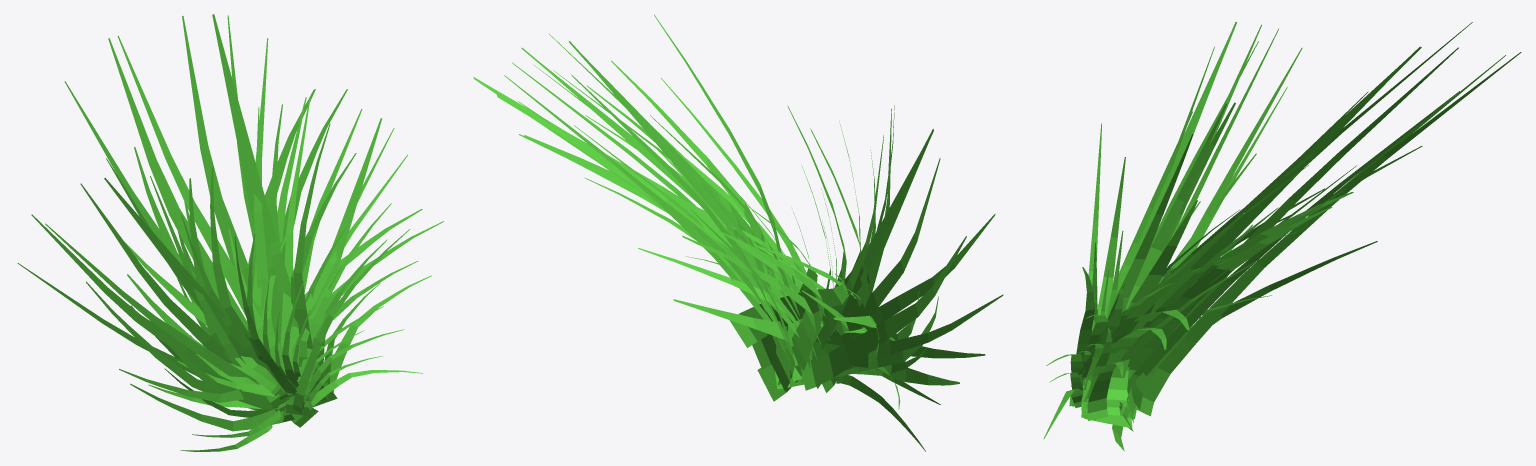
File: grass1.fbx
3 views of the same model, side by side, from view 1: azimuth 30°, elevation 25°; view 2: azimuth 150°, elevation 25°; view 3: azimuth 270°, elevation 25° (orthographic). The views are drawn at different scales.
Parts seen in each view (by area): view 1: Plane.001, Plane.000, Plane.014; view 2: Plane.001, Plane.000, Plane.014; view 3: Plane.001, Plane.000, Plane.014.
Part boxes in pixels (x1,y1,x2,y2): Plane.001: [64, 14, 431, 427]; Plane.000: [17, 158, 336, 451]; Plane.014: [190, 96, 443, 423]; Plane.001: [473, 14, 900, 409]; Plane.000: [740, 105, 1003, 451]; Plane.014: [479, 48, 867, 388]; Plane.001: [1081, 22, 1521, 451]; Plane.000: [1088, 22, 1302, 431]; Plane.014: [1043, 165, 1356, 439].
Bounding box in the file's own units: 543 × 439 × 449.
